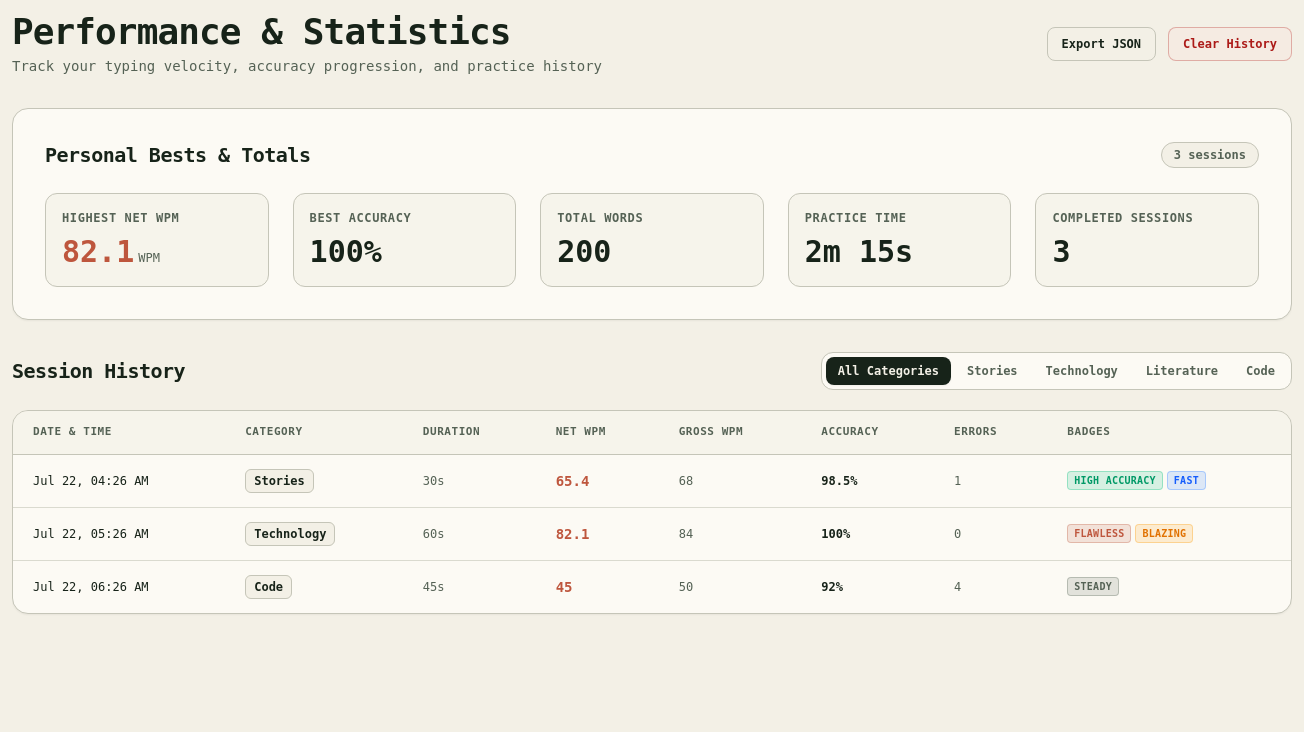
Test: Dashboard UI Components › StatsDashboard › handles export data action
The width and height of the screenshot is (1304, 732).
Click the button with test id "export-json-button": {"x": 1101, "y": 44} x1=1047 y1=27 x2=1156 y2=61
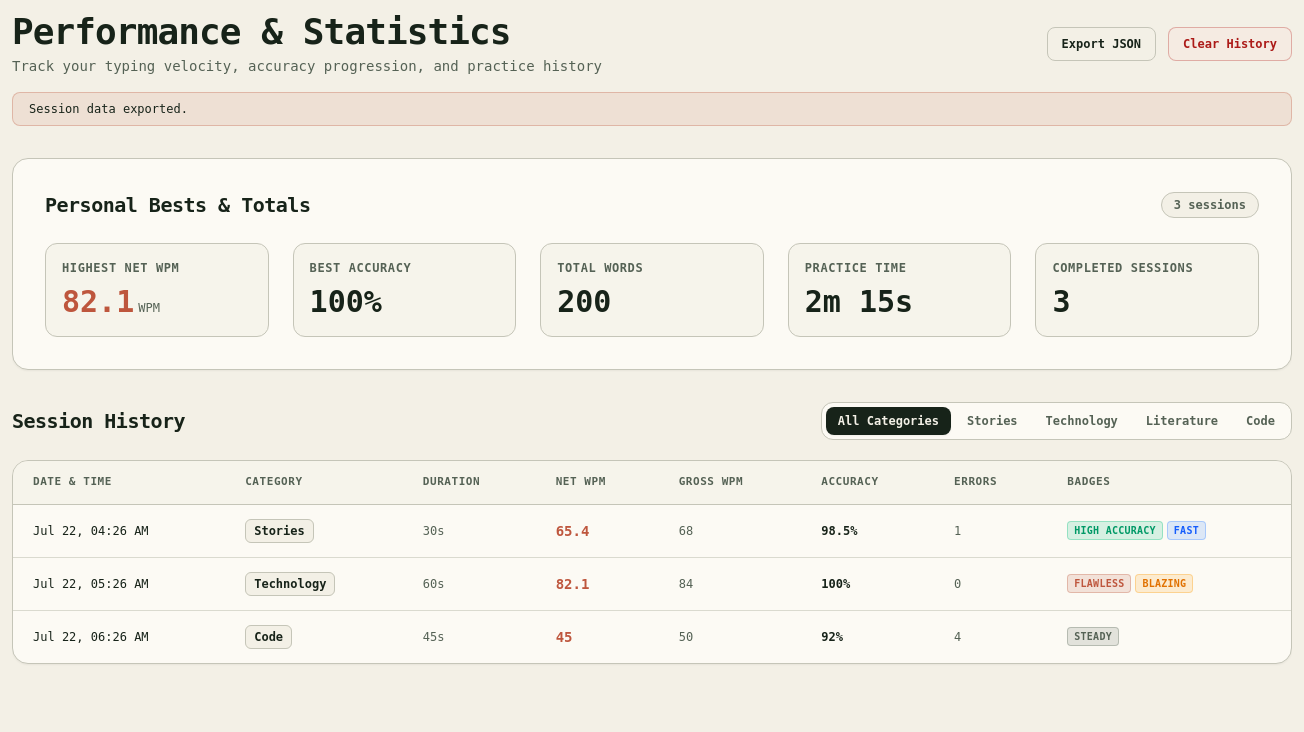
Now the message with test id "feedback-message" shows "Session data exported", box x1=29 y1=102 x2=188 y2=116
